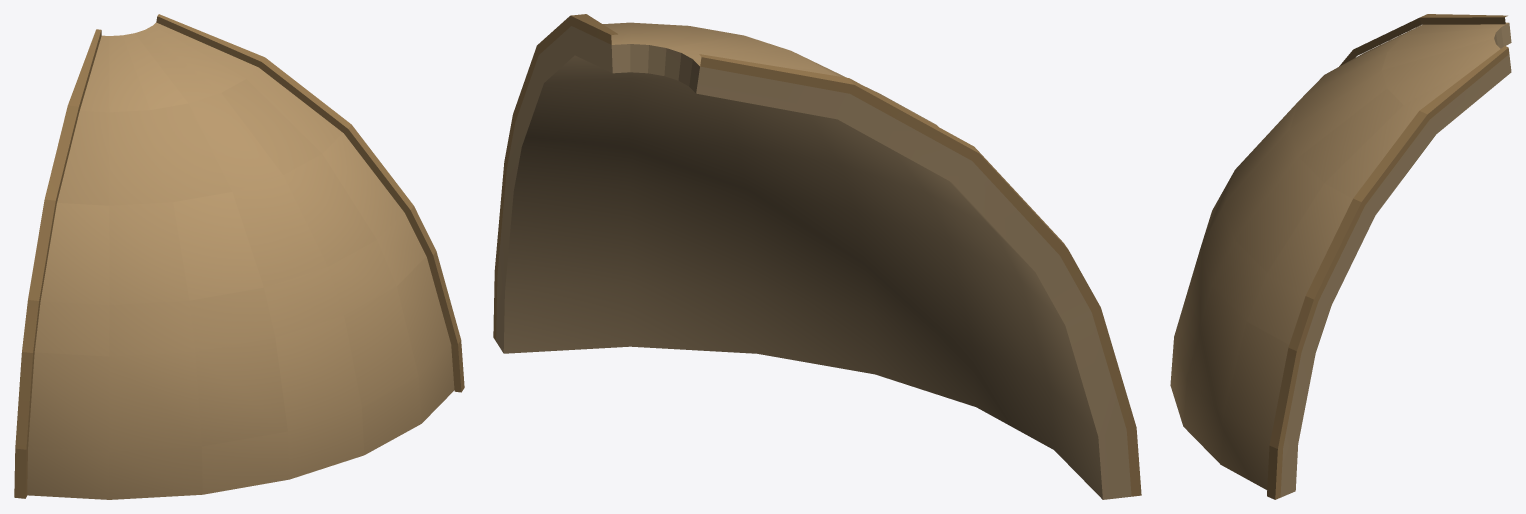
File: dome.panel_4.sandstone.glb
3 views of the same model, side by side, from view 1: azimuth 30°, elevation 25°; view 2: azimuth 150°, elevation 25°; view 3: azimuth 270°, elevation 25° (orthographic). The views are drawn at different scales.
Visible parts, largest first — view 1: dome_panel_4_sandstone; view 2: dome_panel_4_sandstone; view 3: dome_panel_4_sandstone.
Part boxes in pixels (x1,y1,x2,y2): dome_panel_4_sandstone: [14, 14, 464, 499]; dome_panel_4_sandstone: [493, 14, 1141, 499]; dome_panel_4_sandstone: [1170, 14, 1511, 499].
Size of what is drawn, in the model's own units: 5.05 by 3.63 by 3.18.
